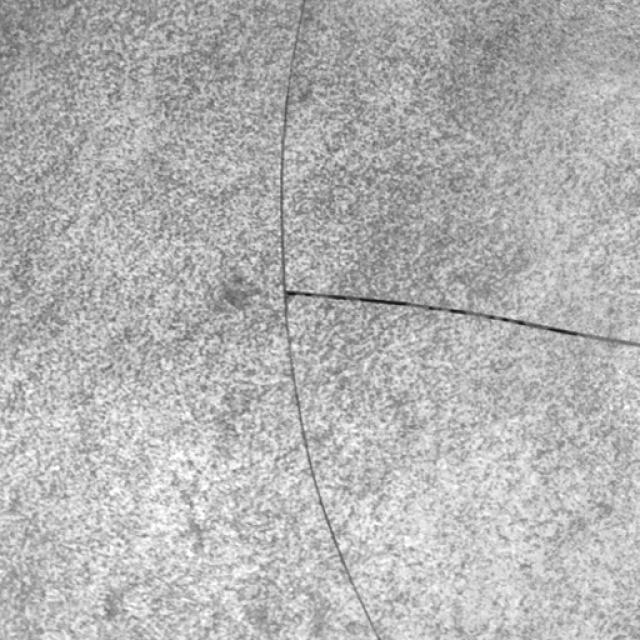SurfaceCrack: (290, 256, 640, 385)
